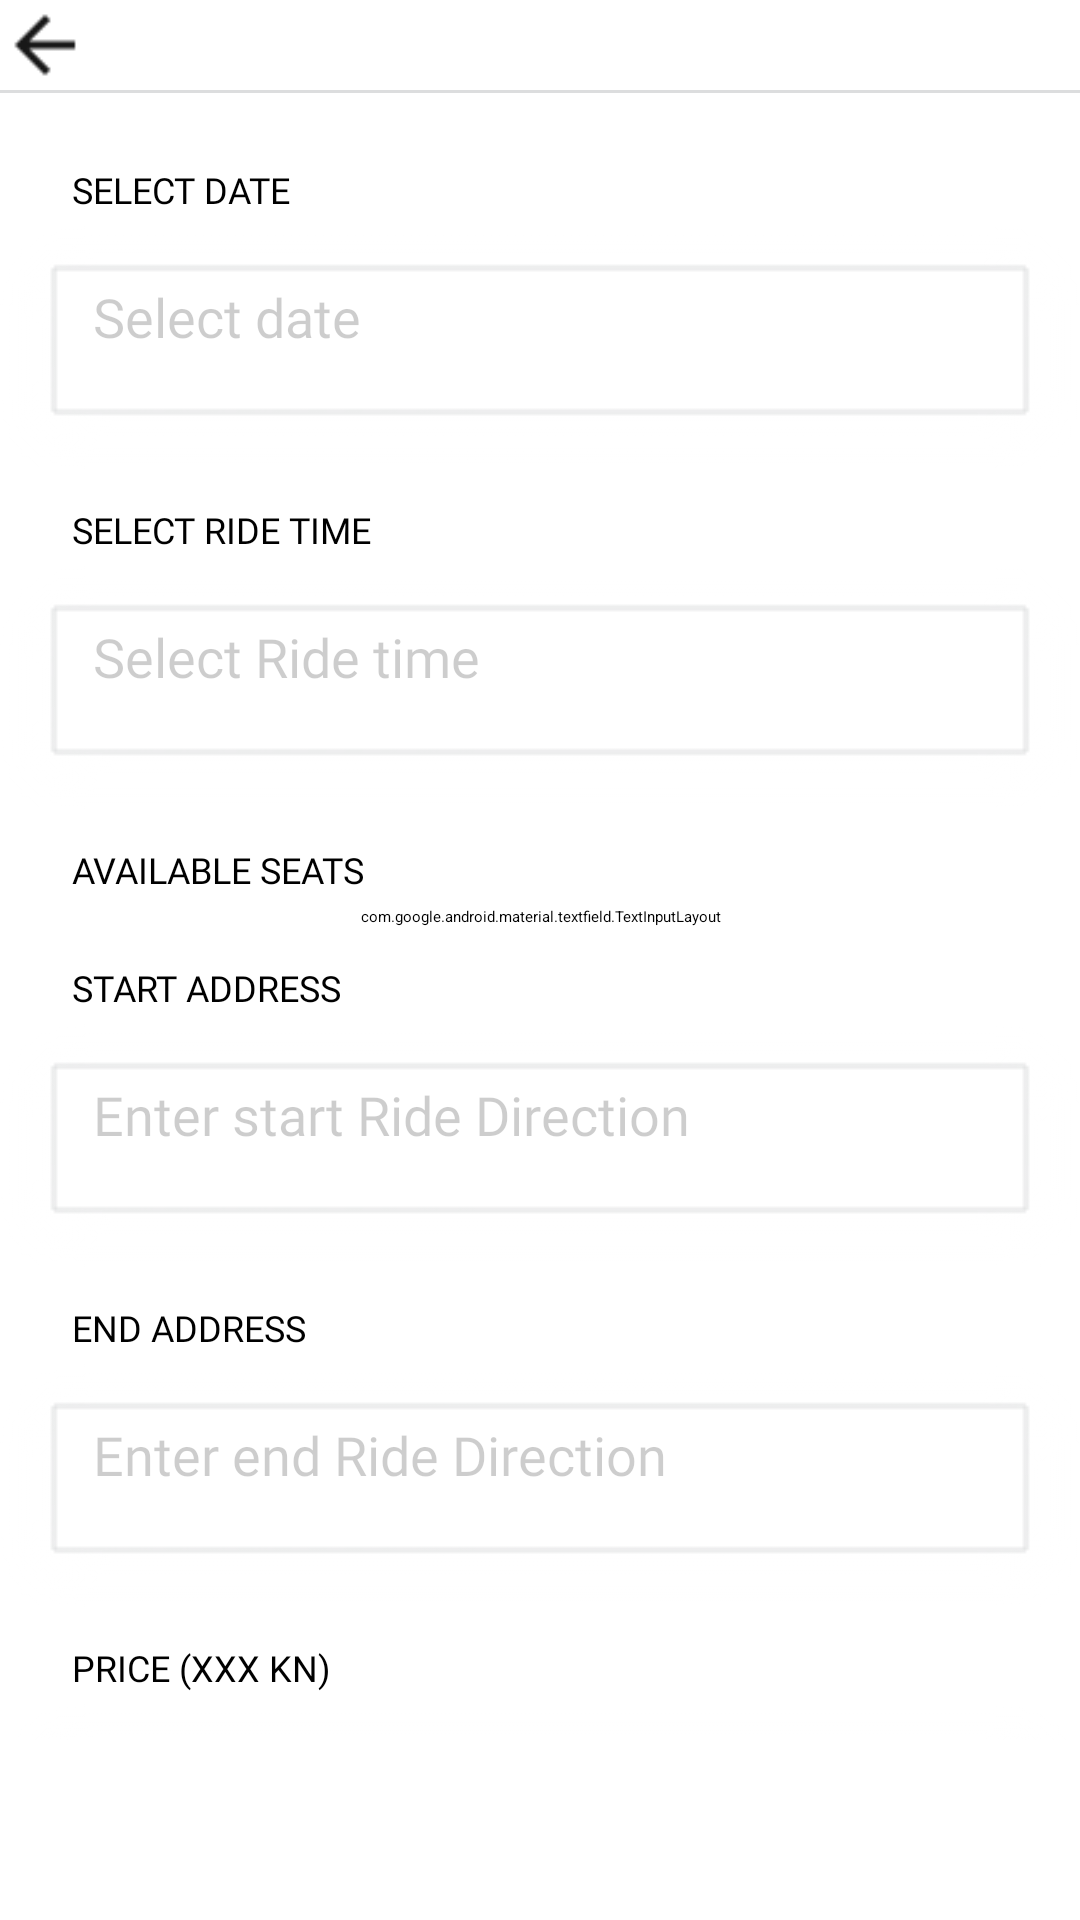

Icon click points for this 1080 x 1920 phone screenshot, format [x,y]:
back: [45,45]
